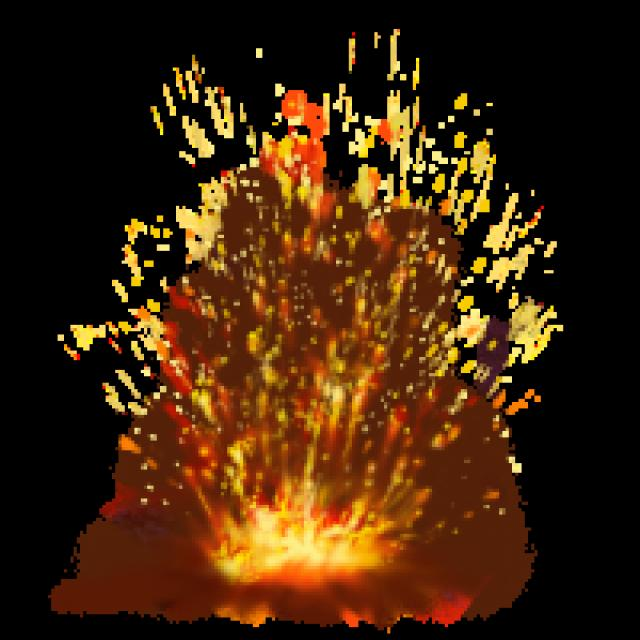fire: (114, 71, 481, 603)
